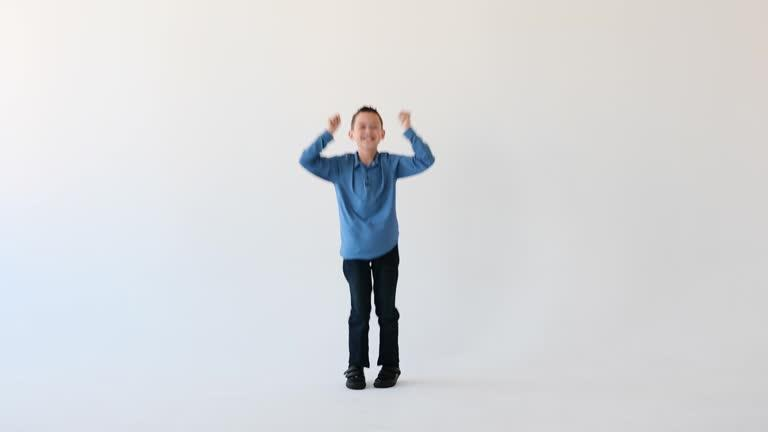Human: (295, 87, 449, 395)
